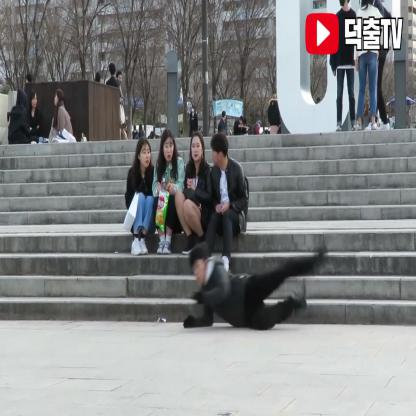Fall_Down: (180, 238, 338, 335)
